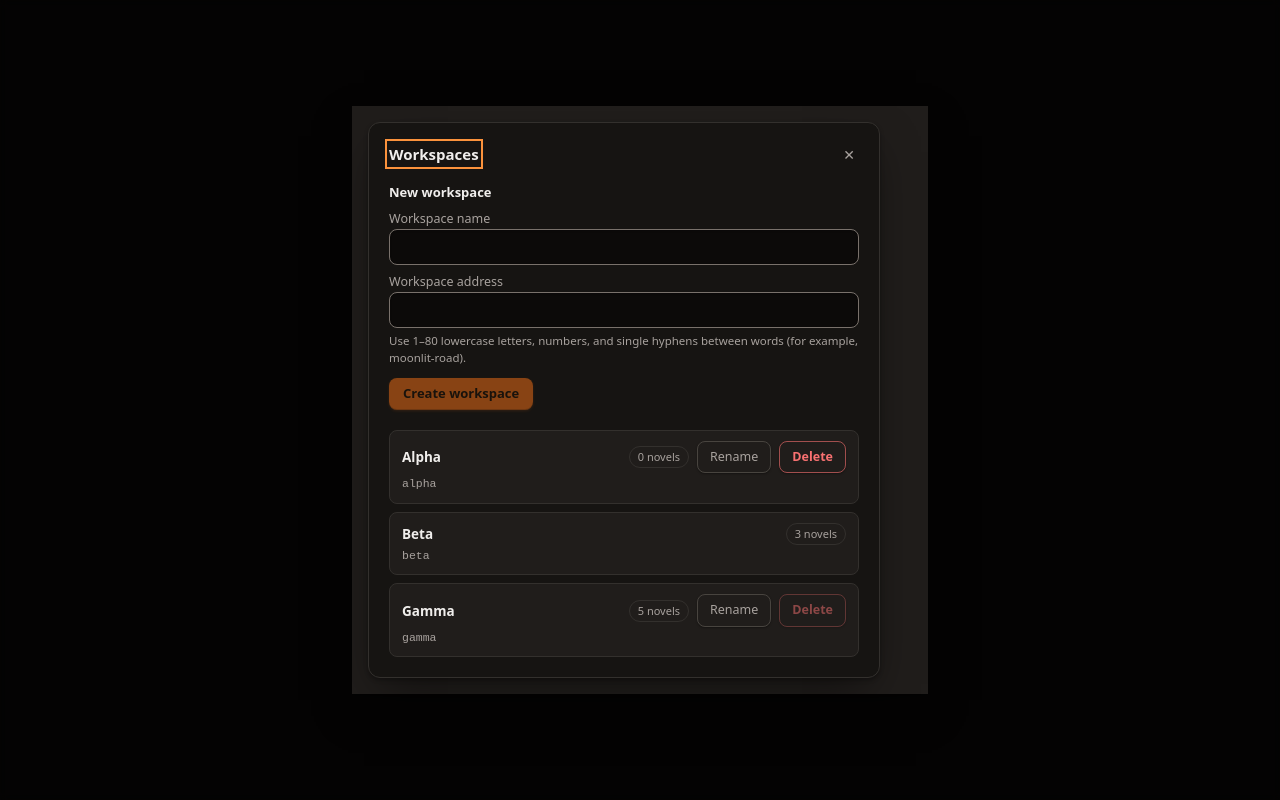
it: workspace manager dialog › renames inline and updates the row
Click the button with test id "ws-rename-alpha".
click(734, 457)  # box [697,441,771,473]
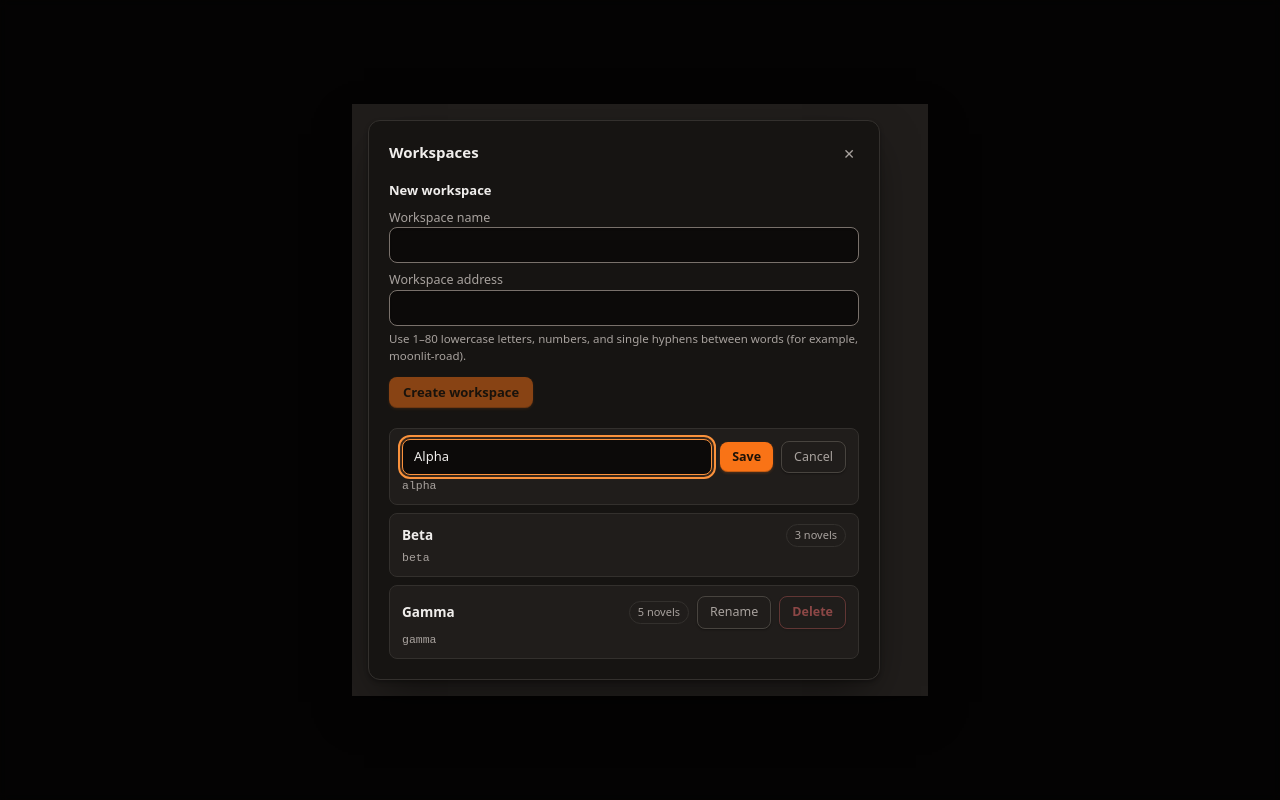
Replace the text in the field with test id "ws-rename-input-alpha" with "  Renamed  " at (557, 457), box [402,439,712,475]
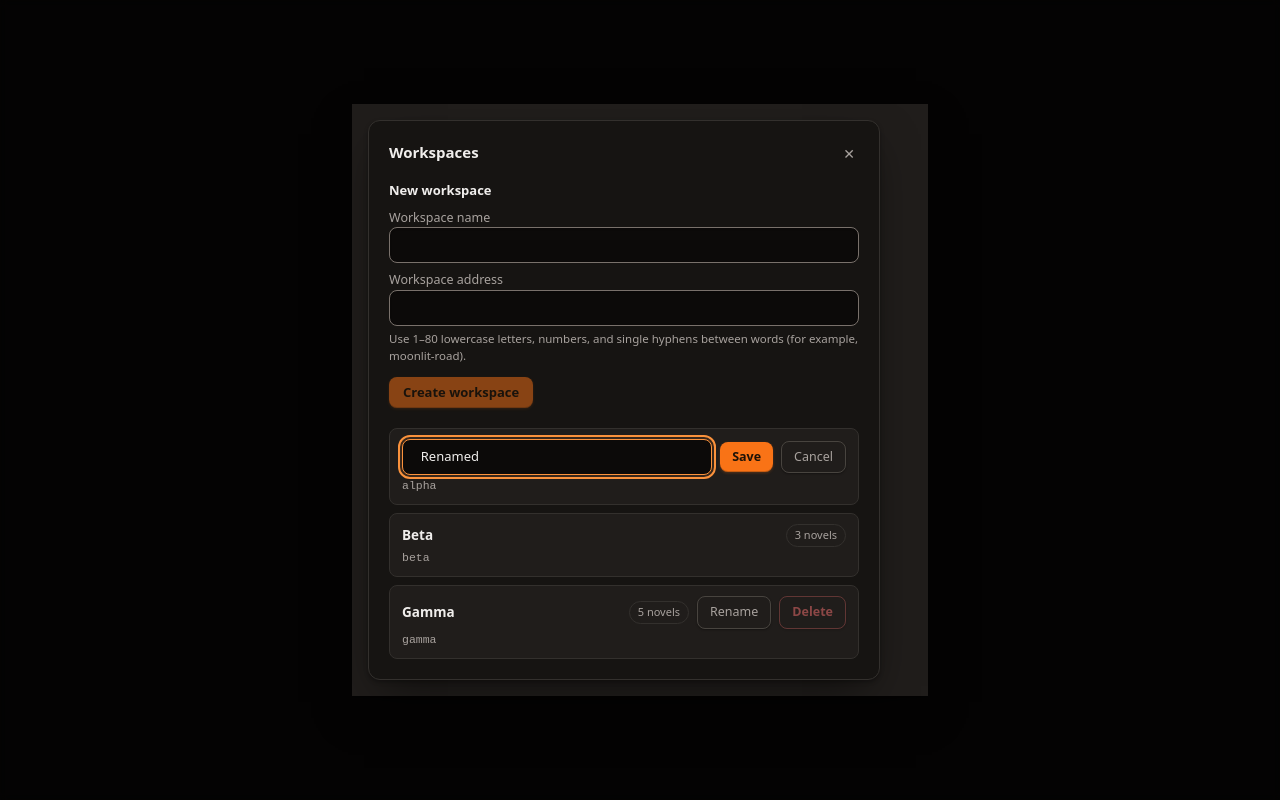
Click the button with test id "ws-rename-save-alpha".
click(747, 457)  # box [720,442,773,472]
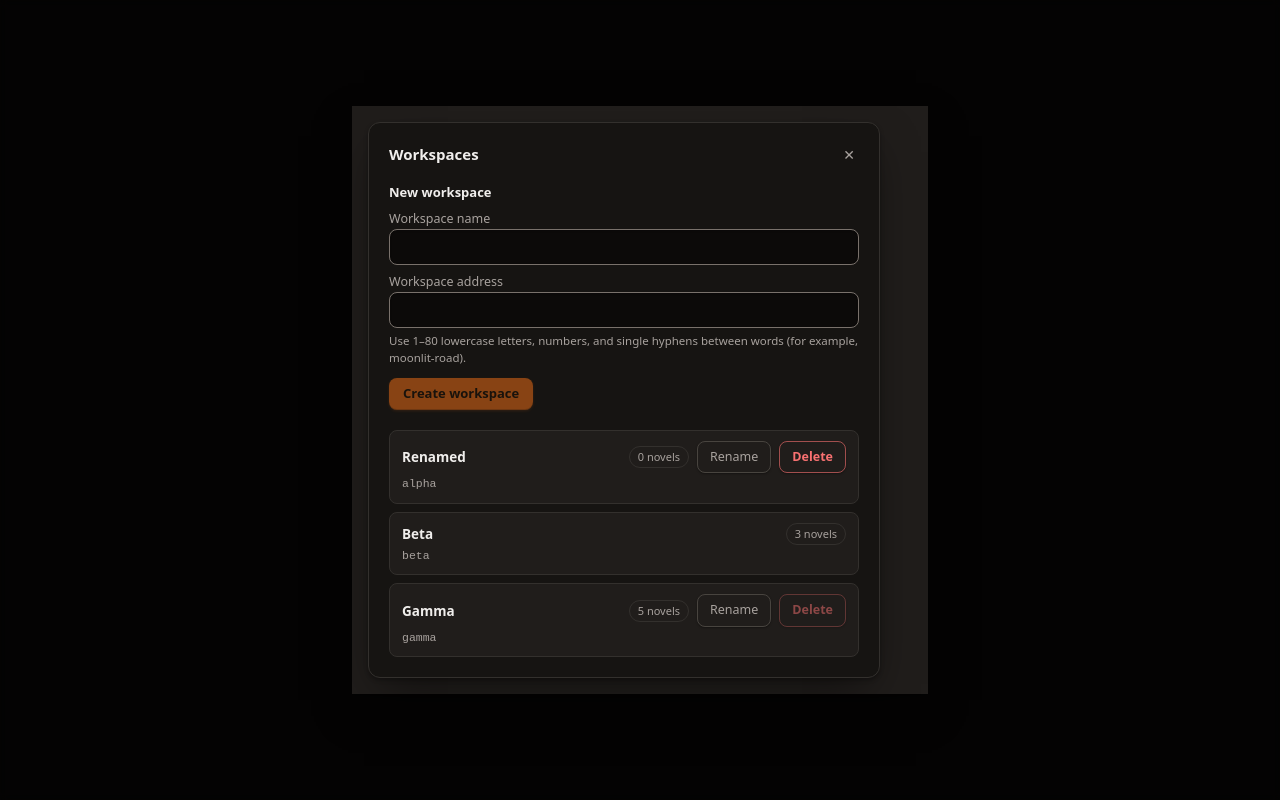
Now the list item with test id "ws-row-alpha" shows "Renamed", box [402,448,466,466]
